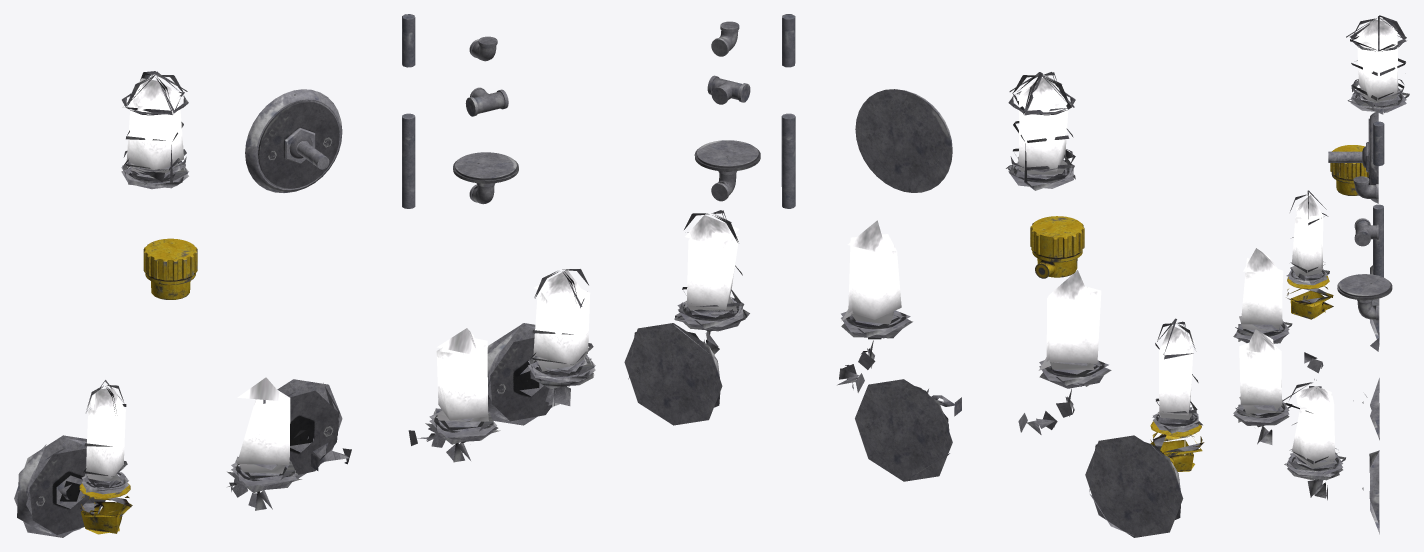
Rendered from industrial_caged_sconce.fbx.
3 renders of one model, left to right at view 1: azimuth 30°, elevation 25°; view 2: azimuth 150°, elevation 25°; view 3: azimuth 270°, elevation 25°, orthographic. The views are drawn at different scales.
Visible parts, largest first — view 1: industrial_caged_sconce_c, industrial_caged_sconce_b, industrial_caged_sconce_a, industrial_caged_sconce_mount, industrial_caged_sconce_light, industrial_caged_sconce_base_a, industrial_caged_sconce_base_b, industrial_caged_sconce_pipe_long, industrial_caged_sconce_pipe_t, industrial_caged_sconce_pipe_short; view 2: industrial_caged_sconce_c, industrial_caged_sconce_a, industrial_caged_sconce_b, industrial_caged_sconce_mount, industrial_caged_sconce_light, industrial_caged_sconce_base_a, industrial_caged_sconce_base_b, industrial_caged_sconce_pipe_long, industrial_caged_sconce_pipe_t, industrial_caged_sconce_pipe_short, industrial_caged_sconce_elbow; view 3: industrial_caged_sconce_c, industrial_caged_sconce_a, industrial_caged_sconce_light, industrial_caged_sconce_b, industrial_caged_sconce_base_b, industrial_caged_sconce_mount, industrial_caged_sconce_base_a, industrial_caged_sconce_pipe_long, industrial_caged_sconce_pipe_t, industrial_caged_sconce_pipe_short, industrial_caged_sconce_elbow.
Part boxes in pixels (x1=…): industrial_caged_sconce_c: x1=227, y1=328, x2=500, y2=510; industrial_caged_sconce_b: x1=14, y1=380, x2=132, y2=537; industrial_caged_sconce_a: x1=487, y1=269, x2=595, y2=425; industrial_caged_sconce_mount: x1=245, y1=89, x2=342, y2=192; industrial_caged_sconce_light: x1=121, y1=71, x2=188, y2=189; industrial_caged_sconce_base_a: x1=143, y1=238, x2=197, y2=299; industrial_caged_sconce_base_b: x1=453, y1=152, x2=518, y2=204; industrial_caged_sconce_pipe_long: x1=402, y1=113, x2=415, y2=208; industrial_caged_sconce_pipe_t: x1=465, y1=87, x2=508, y2=116; industrial_caged_sconce_pipe_short: x1=402, y1=14, x2=415, y2=67; industrial_caged_sconce_c: x1=837, y1=220, x2=1111, y2=481; industrial_caged_sconce_a: x1=624, y1=210, x2=749, y2=425; industrial_caged_sconce_b: x1=1085, y1=318, x2=1204, y2=537; industrial_caged_sconce_mount: x1=855, y1=89, x2=952, y2=192; industrial_caged_sconce_light: x1=1006, y1=72, x2=1075, y2=190; industrial_caged_sconce_base_a: x1=1030, y1=216, x2=1084, y2=278; industrial_caged_sconce_base_b: x1=694, y1=140, x2=760, y2=201; industrial_caged_sconce_pipe_long: x1=781, y1=113, x2=795, y2=208; industrial_caged_sconce_pipe_t: x1=707, y1=75, x2=750, y2=104; industrial_caged_sconce_pipe_short: x1=782, y1=14, x2=795, y2=67; industrial_caged_sconce_elbow: x1=711, y1=21, x2=739, y2=56; industrial_caged_sconce_c: x1=1233, y1=248, x2=1379, y2=444; industrial_caged_sconce_a: x1=1282, y1=379, x2=1379, y2=534; industrial_caged_sconce_light: x1=1346, y1=15, x2=1409, y2=114; industrial_caged_sconce_b: x1=1286, y1=190, x2=1379, y2=351; industrial_caged_sconce_base_b: x1=1337, y1=274, x2=1392, y2=320; industrial_caged_sconce_mount: x1=1328, y1=111, x2=1378, y2=203; industrial_caged_sconce_base_a: x1=1330, y1=145, x2=1368, y2=195; industrial_caged_sconce_pipe_long: x1=1373, y1=204, x2=1383, y2=277; industrial_caged_sconce_pipe_t: x1=1354, y1=218, x2=1378, y2=246; industrial_caged_sconce_pipe_short: x1=1373, y1=121, x2=1384, y2=165; industrial_caged_sconce_elbow: x1=1353, y1=176, x2=1378, y2=199.
Size of the model in its own units: 121 by 92.04 by 39.81.
Materials: 1 (1 with a texture image).
